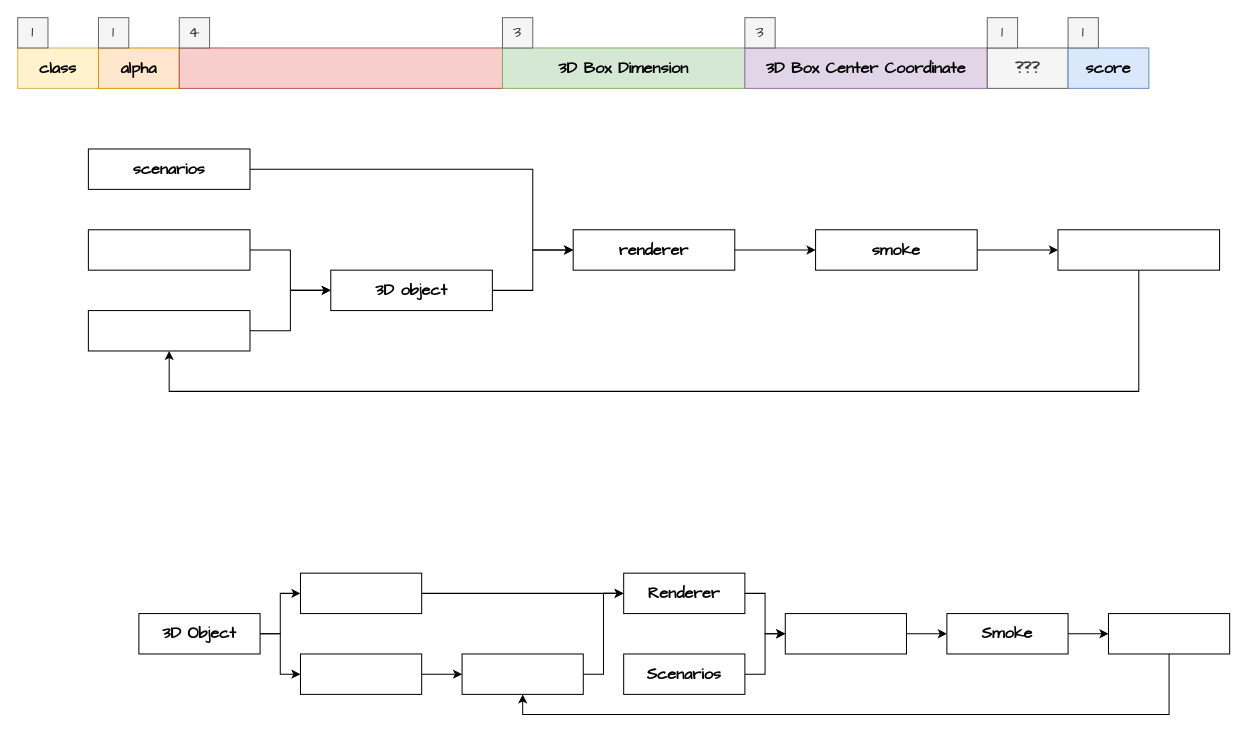
This 1247x740 diagram has some shape labels left out. The centre of each missing label's shape, as x and y in pixels:
2D Box Coordinate: the point at 340,67
3D object mesh: the point at 168,249
3D object texture: the point at 168,330
Attack: the point at 1168,633
Defense: the point at 845,633
detect score: the point at 1138,249
Mesh: the point at 360,593
Stickers: the point at 522,673
Texture: the point at 360,673
